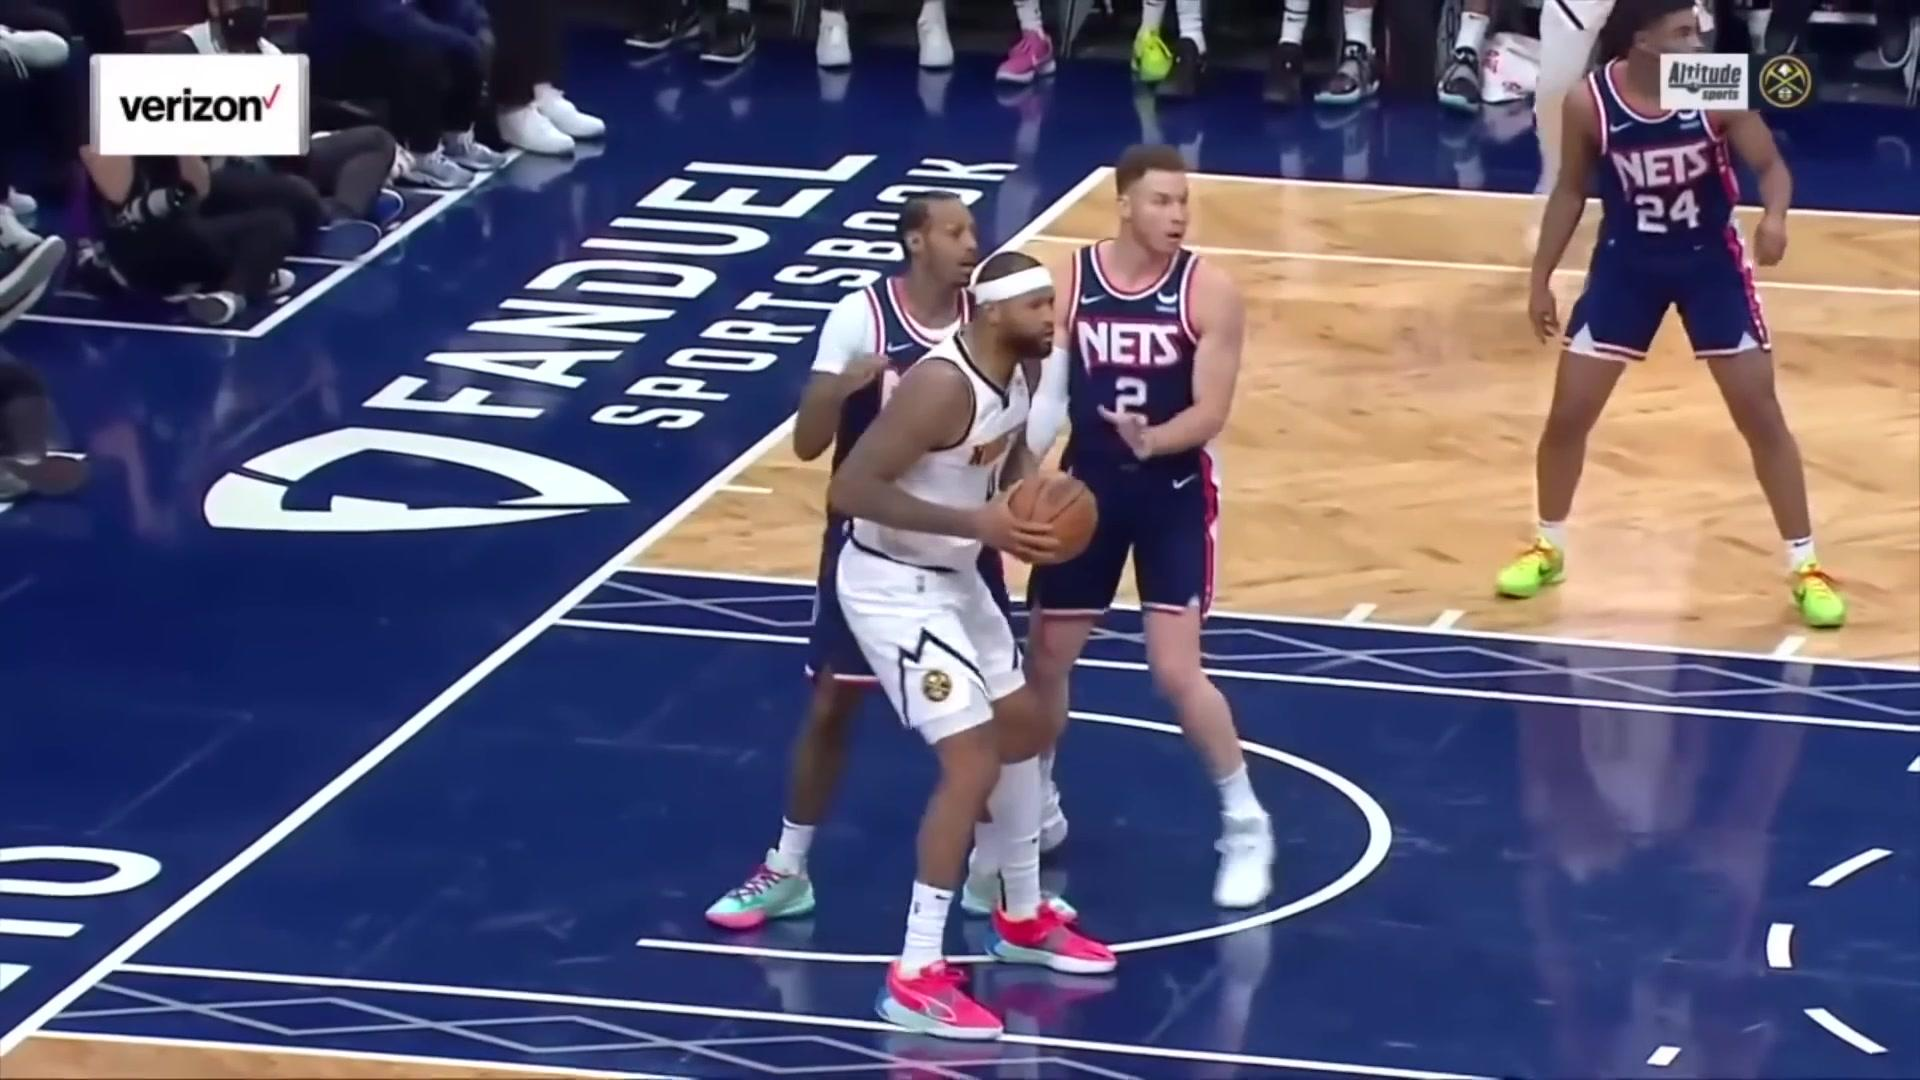no_foul: (713, 169, 1266, 1005)
